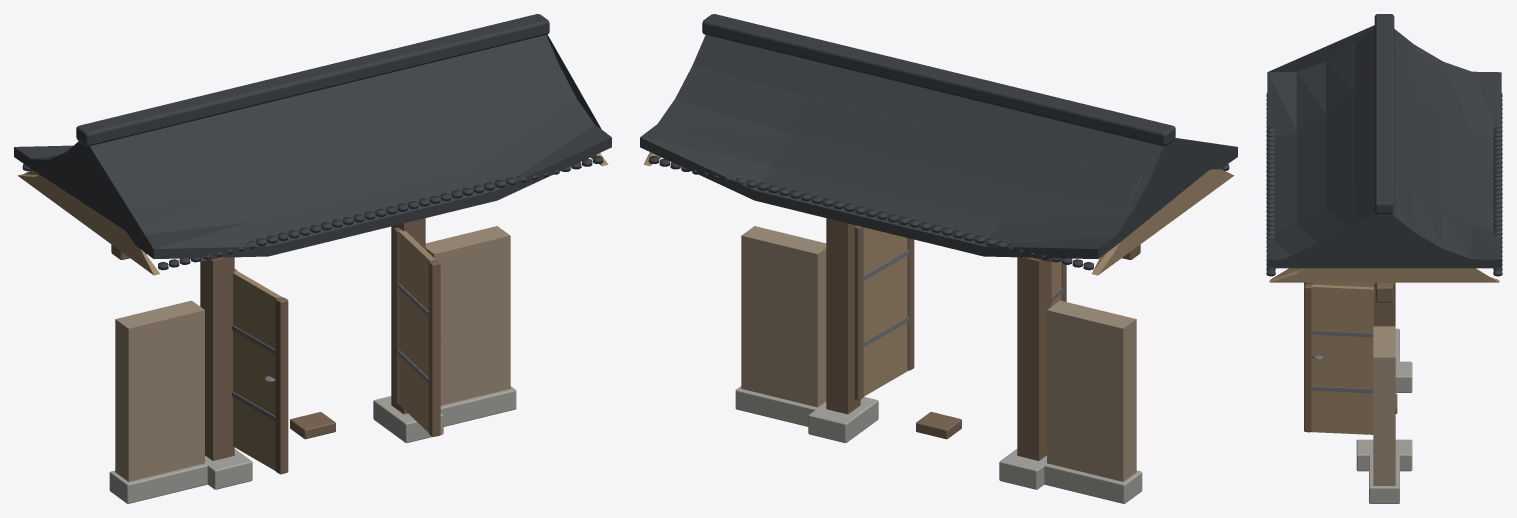
Rendered from hanok-gate.glb.
3 renders of one model, left to right at view 1: azimuth 30°, elevation 25°; view 2: azimuth 150°, elevation 25°; view 3: azimuth 270°, elevation 25°, orthographic. The views are drawn at different scales.
Parts seen in each view (by area): view 1: village-gate-house_0; view 2: village-gate-house_0; view 3: village-gate-house_0.
Part boxes in pixels (bbox=[...]): village-gate-house_0: bbox=[14, 14, 611, 503]; village-gate-house_0: bbox=[640, 14, 1237, 503]; village-gate-house_0: bbox=[1266, 14, 1502, 503].
Size of the model in its own units: 7.3 by 5.67 by 3.83.
